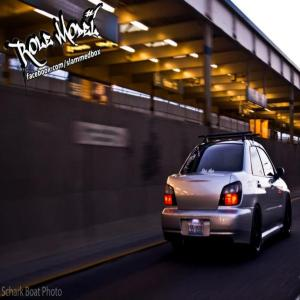Vehicle-registration-plate: (189, 221, 204, 237)
